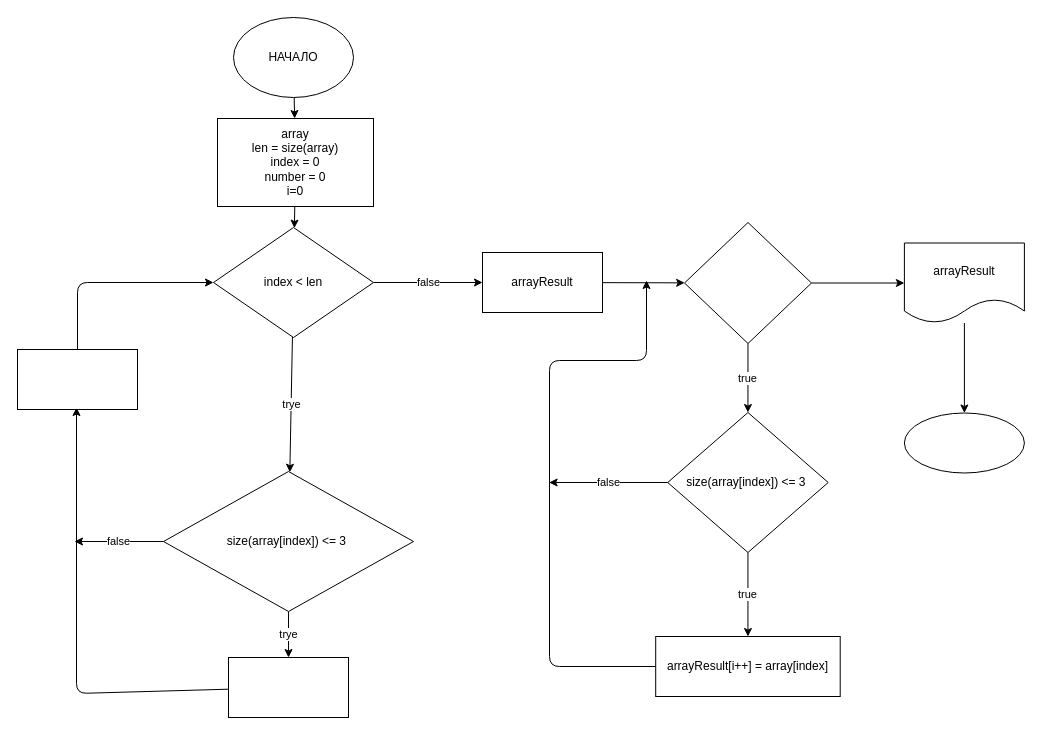
This 1042x735 diagram has some shape labels left out. The box of each missing label's shape, as (x1, y1, x2, y2) in pixels:
index ++: (16, 348, 138, 410)
index< len: (684, 222, 812, 344)
number ++: (228, 656, 348, 718)
КОНЕЦ: (903, 412, 1024, 473)
